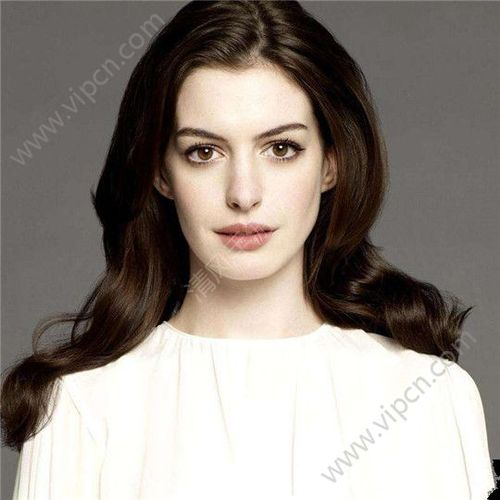nomask: (166, 50, 333, 279)
